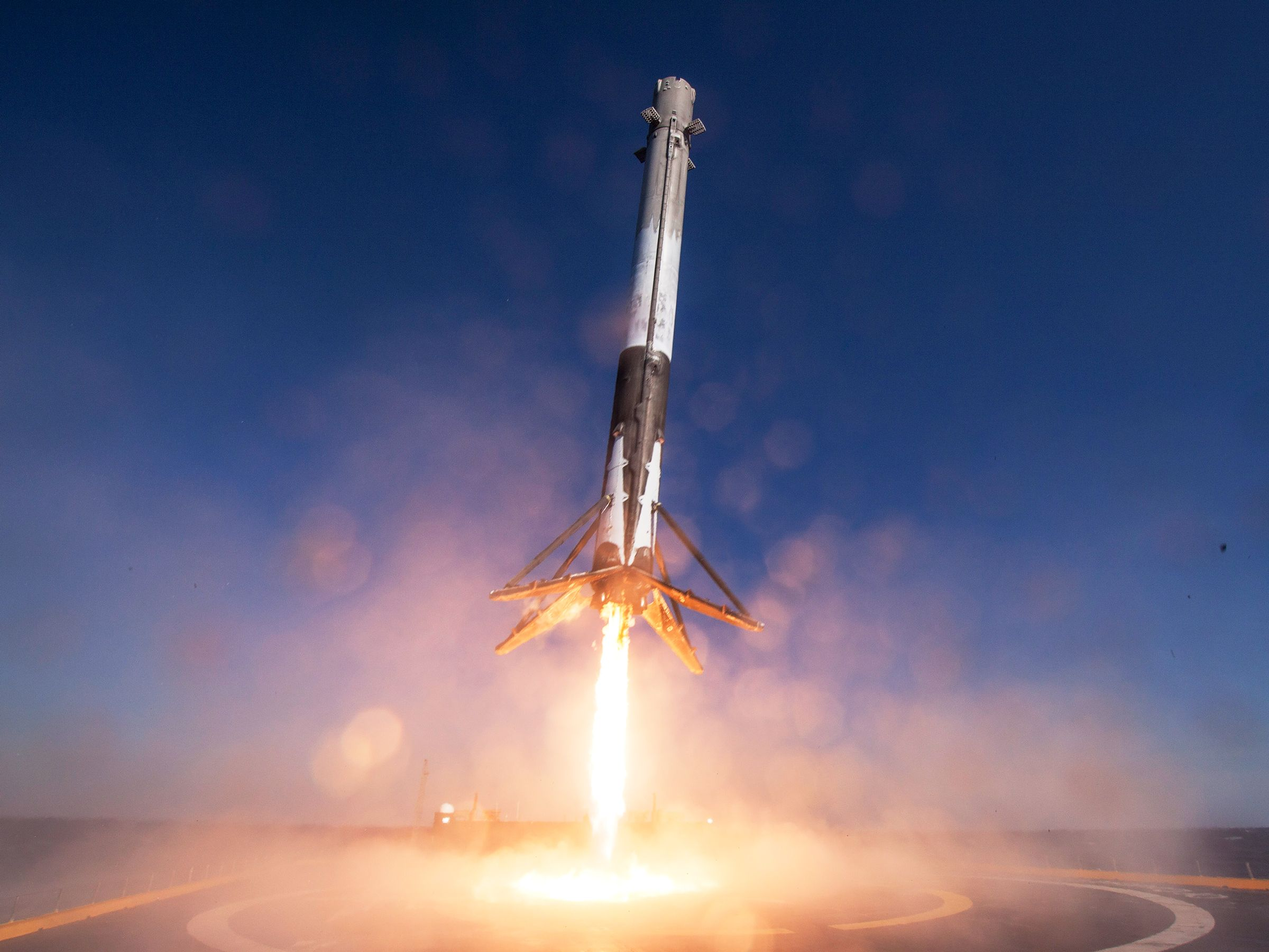falcon: (476, 74, 771, 670)
